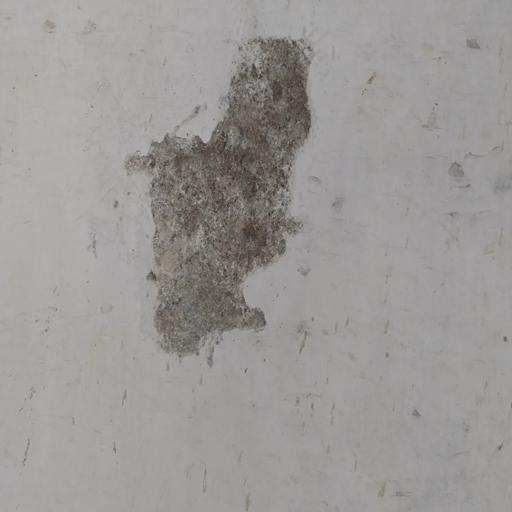peeling: (110, 19, 332, 374)
